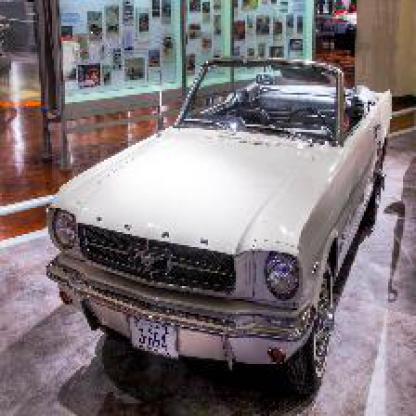not_emergency: (39, 43, 407, 396)
